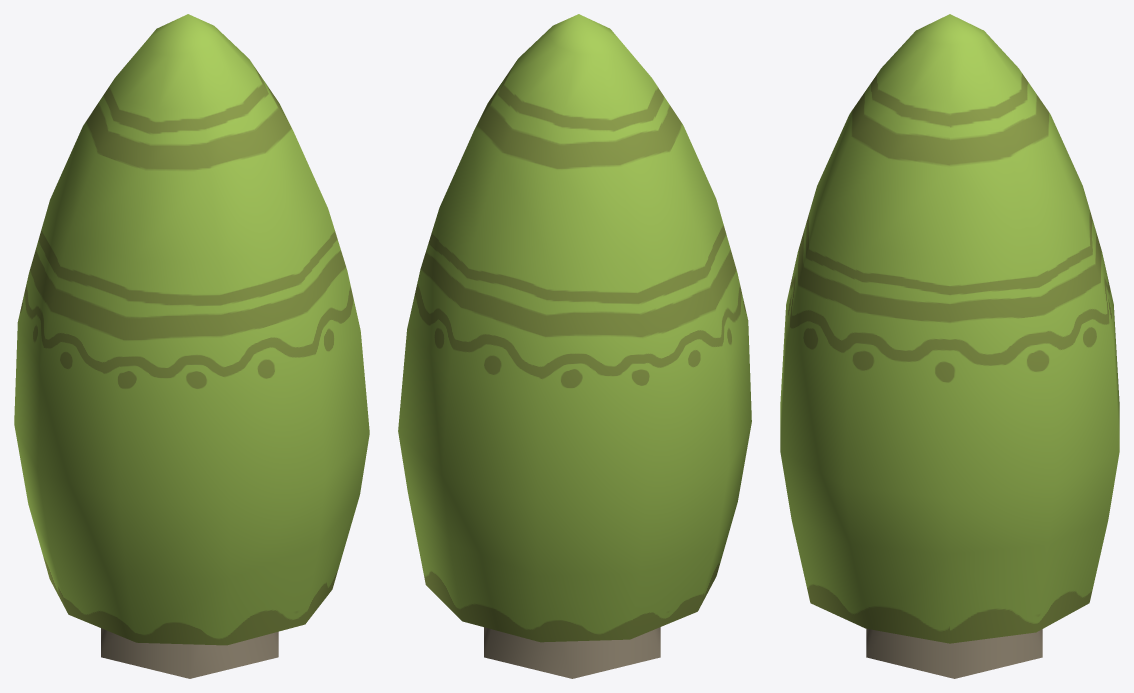
File: S_Tree_F.fbx
3 views of the same model, side by side, from view 1: azimuth 30°, elevation 25°; view 2: azimuth 150°, elevation 25°; view 3: azimuth 270°, elevation 25° (orthographic).
Parts seen in each view (by area): view 1: S_Tree_F_m; view 2: S_Tree_F_m; view 3: S_Tree_F_m.
Part boxes in pixels (x1,y1,x2,y2): S_Tree_F_m: (14,14,369,678); S_Tree_F_m: (398,14,751,678); S_Tree_F_m: (780,14,1119,678).
Size of the model in its own units: 21.96 by 42.41 by 21.06.
